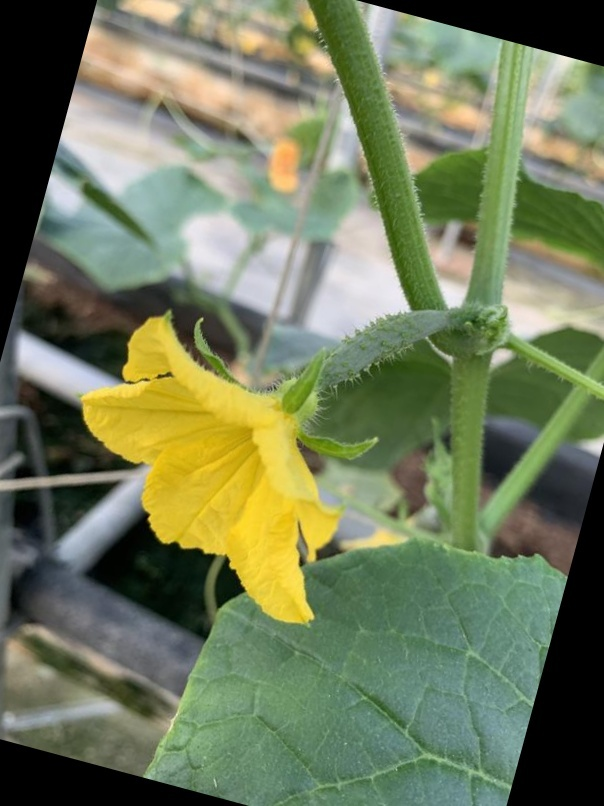flowering: (71, 278, 433, 631)
